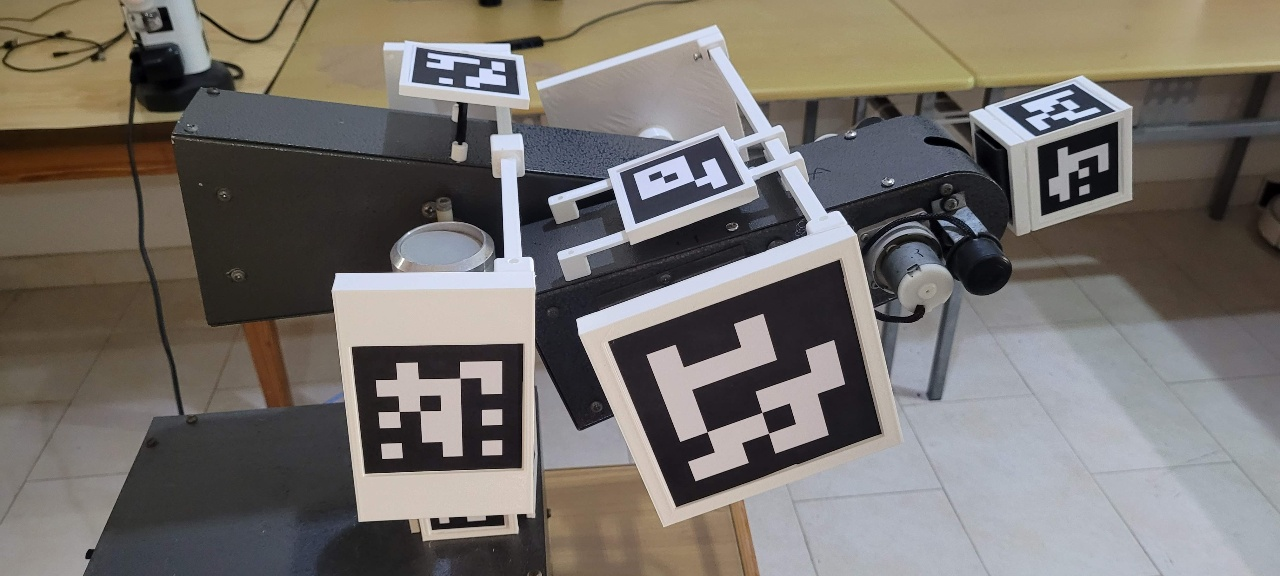Robot: (168, 21, 1135, 543)
